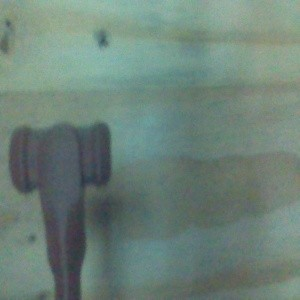palu: (9, 118, 113, 300)
